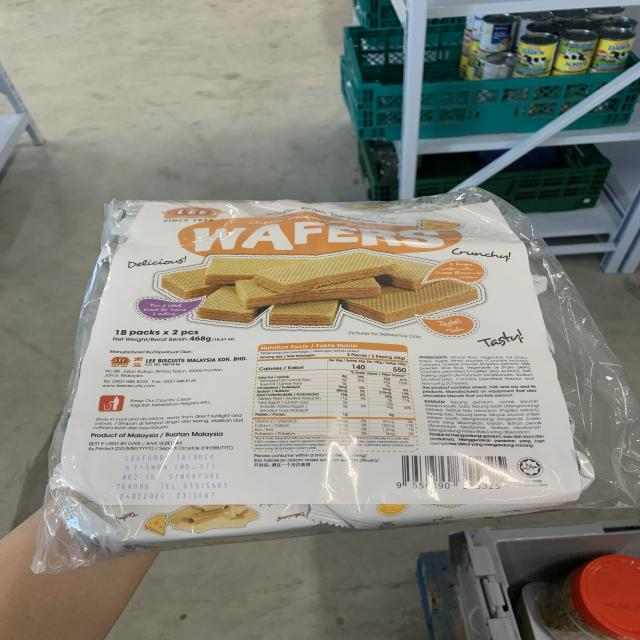object_name: (73, 199, 593, 517)
